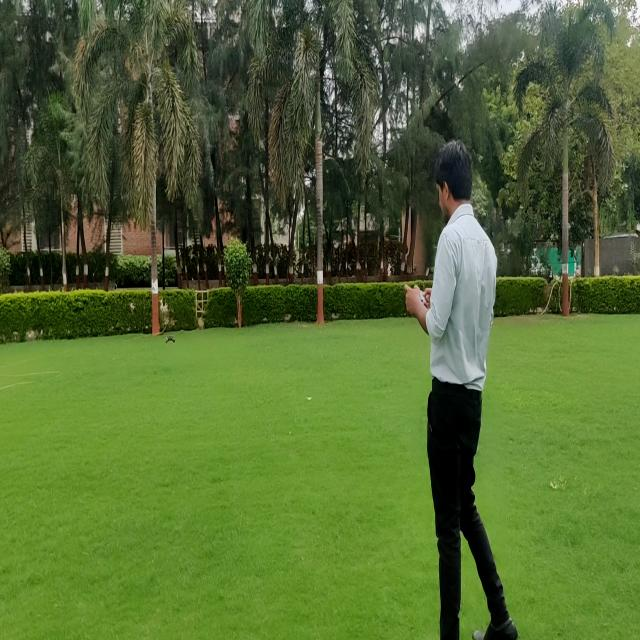drone: (160, 330, 178, 348)
